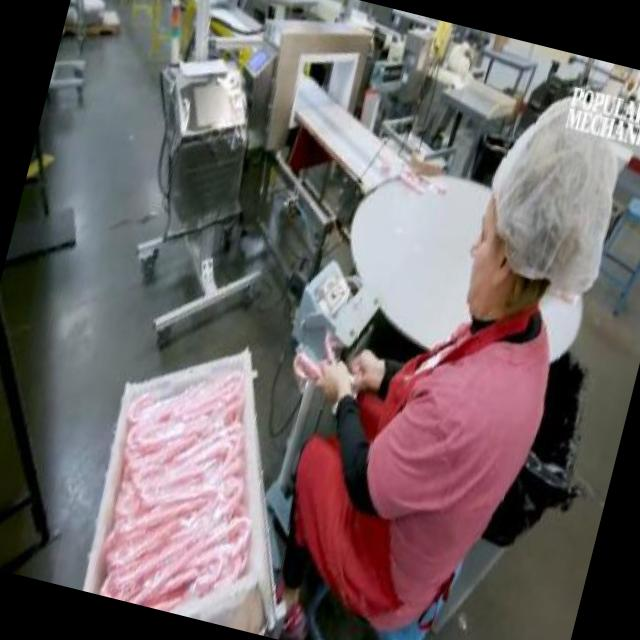hairnet: (492, 99, 619, 294)
